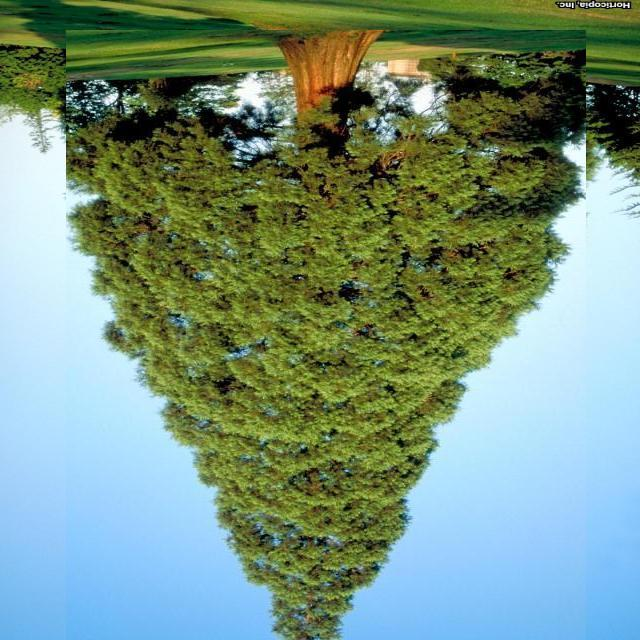tree: (66, 30, 586, 640)
